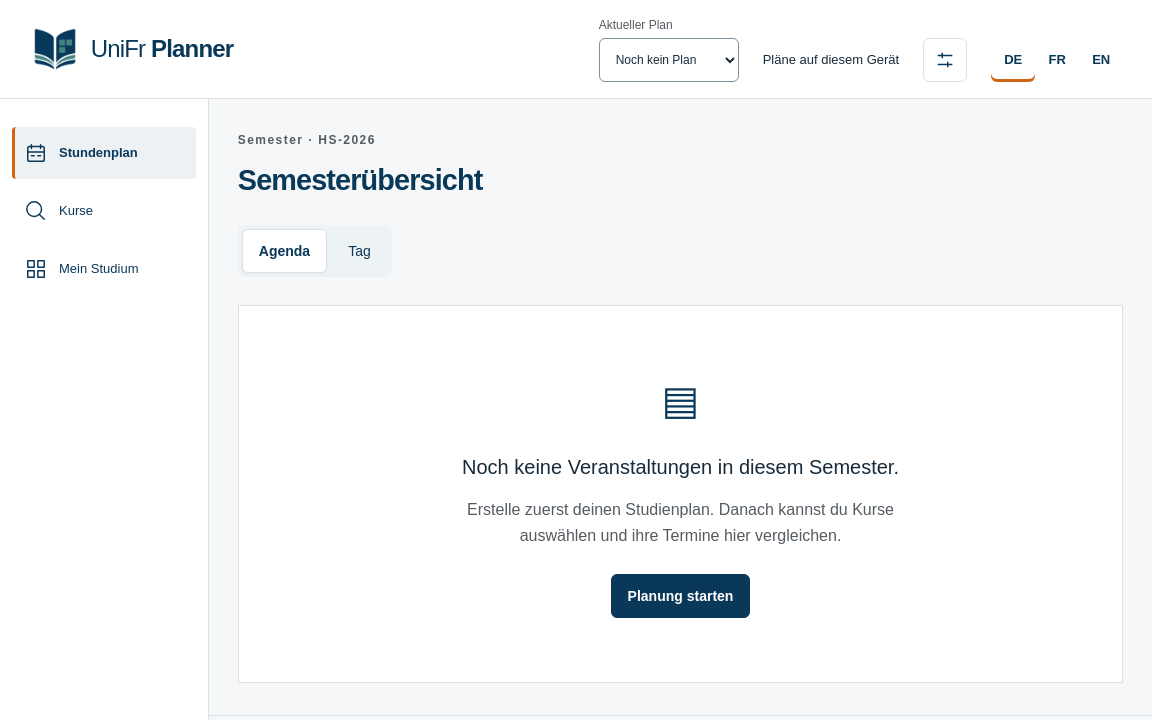
Test: application shell › changes between semester agenda and day view
The width and height of the screenshot is (1152, 720).
Click the button "Tag" at [359, 251], box [331,229,388,273]
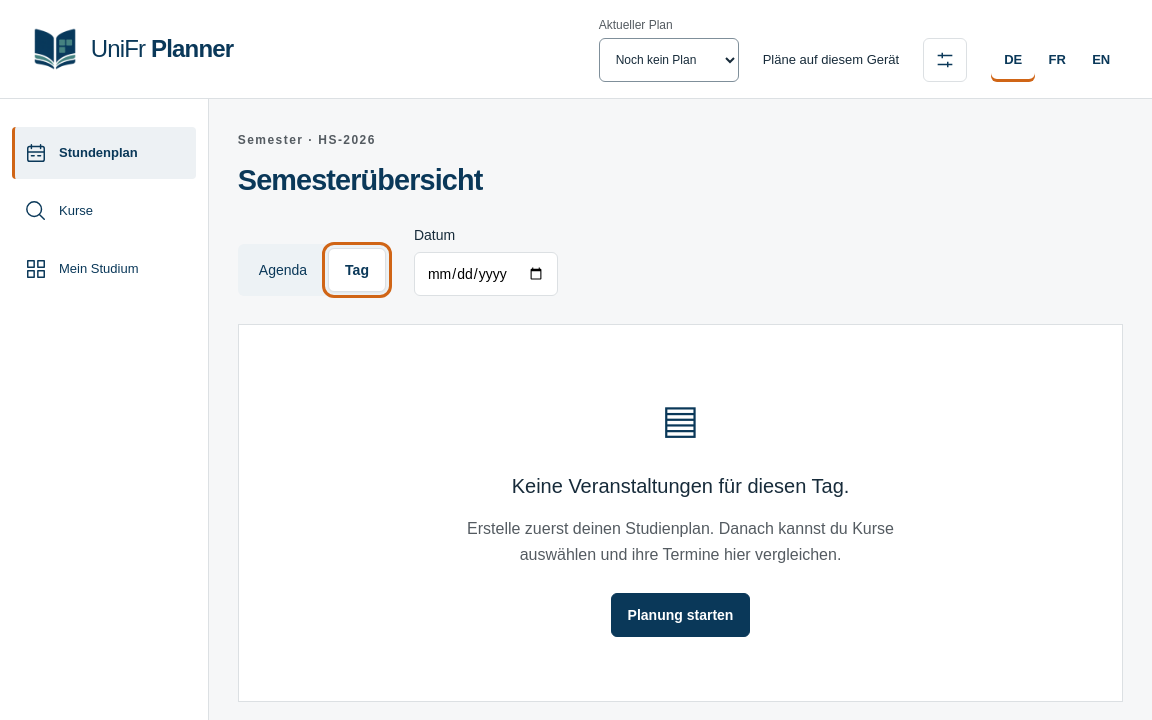
Expected: the heading "Keine Veranstaltungen für diesen Tag." is shown, [512,475,849,497]
Click the button "Agenda" at [283, 270], box [242,248,324,292]
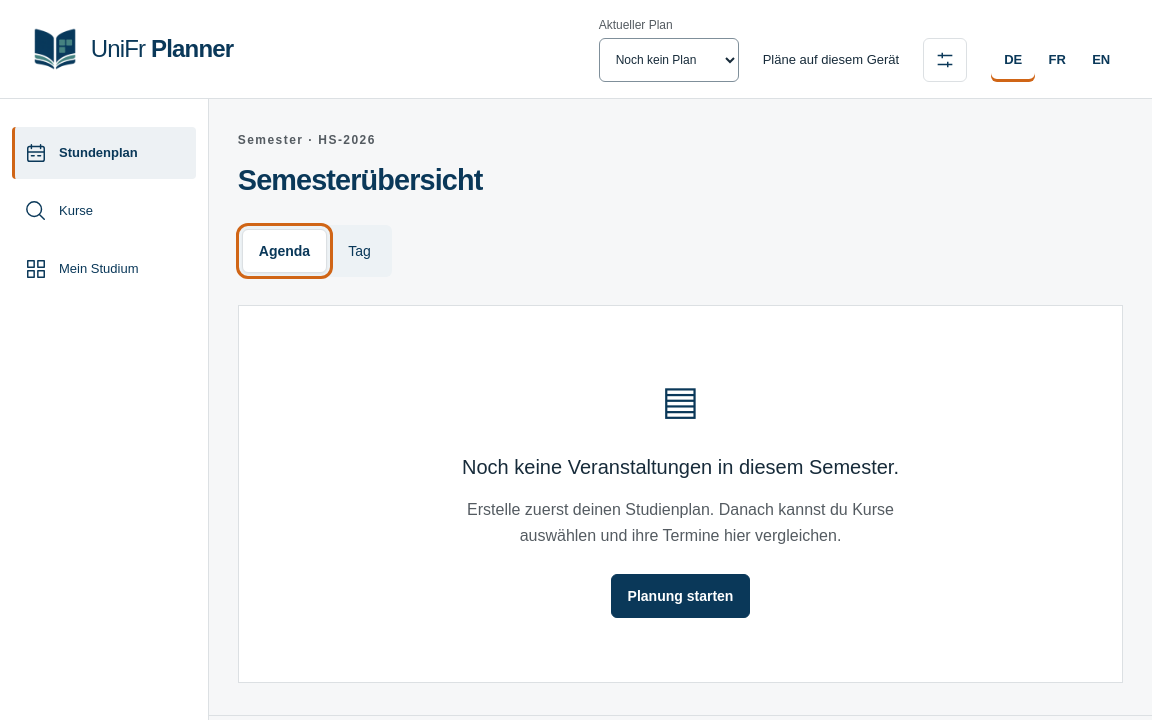
Expected: the heading "Noch keine Veranstaltungen in diesem Semester." is shown, [462,456,899,478]
